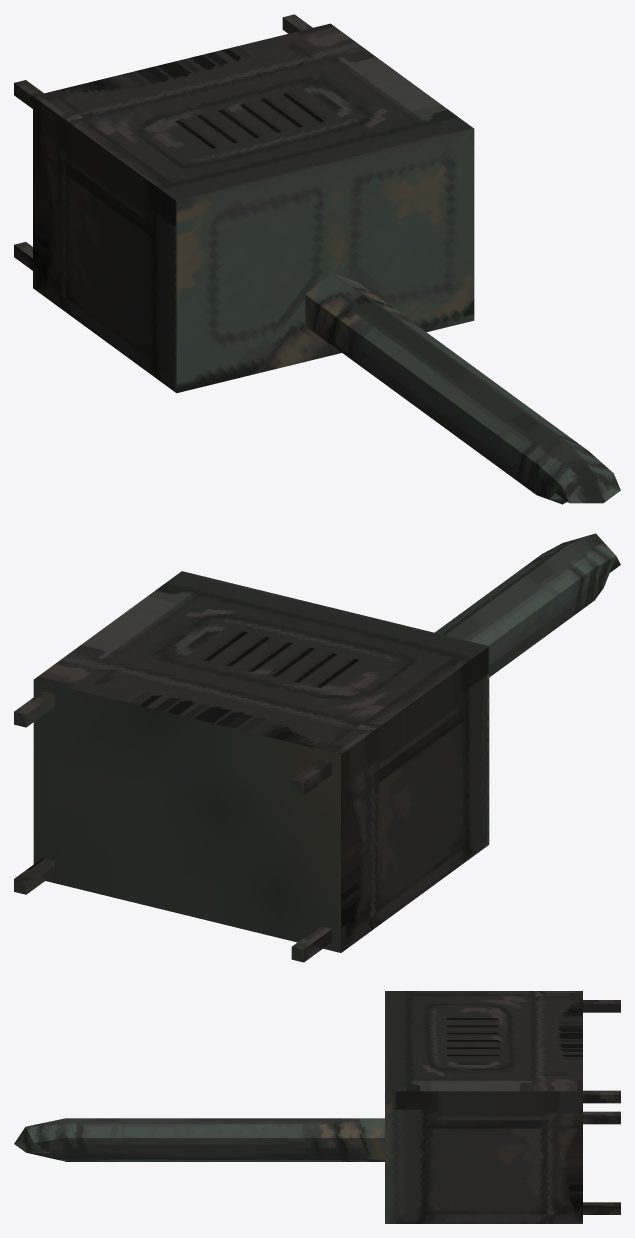
File: pz_g016_antique_oven.obj
3 renders of one model, top to bottom at view 1: azimuth 30°, elevation 25°; view 2: azimuth 150°, elevation 25°; view 3: azimuth 270°, elevation 25°, orthographic. The views are drawn at different scales.
Visible parts, largest first — view 1: cast_stove_body_z+, cast_stove_body_y+, cast_stove_body_x-, six_sided_flue_side0, six_sided_flue_side1, six_sided_flue_side5, round_flue_elbow_0_0, round_flue_elbow_1_0; view 2: cast_stove_body_z-, cast_stove_body_y+, cast_stove_body_x-, six_sided_flue_side0, six_sided_flue_side1, six_sided_flue_side5, round_flue_elbow_0_0; view 3: cast_stove_body_x+, cast_stove_body_y+, six_sided_flue_side4, six_sided_flue_side5, six_sided_flue_side3, round_flue_elbow_0_5, round_flue_elbow_0_4, cast_stove_leg_0_0_x+, cast_stove_leg_1_1_x+, cast_stove_leg_0_1_x+, cast_stove_leg_1_0_x+.
Part boxes in pixels (box(x1,y1,x2,y2)): cast_stove_body_z+: box(176, 128, 474, 392); cast_stove_body_y+: box(33, 23, 473, 201); cast_stove_body_x-: box(33, 96, 176, 392); six_sided_flue_side0: box(305, 272, 562, 463); six_sided_flue_side1: box(305, 294, 536, 494); six_sided_flue_side5: box(332, 272, 587, 450); round_flue_elbow_0_0: box(537, 441, 593, 485); round_flue_elbow_1_0: box(562, 473, 603, 503); cast_stove_body_z-: box(33, 680, 340, 952); cast_stove_body_y+: box(34, 571, 488, 754); cast_stove_body_x-: box(341, 646, 489, 952); six_sided_flue_side0: box(445, 545, 594, 645); six_sided_flue_side1: box(488, 568, 595, 677); six_sided_flue_side5: box(435, 545, 567, 634); round_flue_elbow_0_0: box(569, 533, 615, 566); cast_stove_body_x+: box(385, 1091, 582, 1223); cast_stove_body_y+: box(385, 991, 582, 1091); six_sided_flue_side4: box(65, 1138, 384, 1159); six_sided_flue_side5: box(65, 1118, 384, 1137); six_sided_flue_side3: box(65, 1159, 384, 1161); round_flue_elbow_0_5: box(26, 1118, 65, 1142); round_flue_elbow_0_4: box(34, 1138, 65, 1159); cast_stove_leg_0_0_x+: box(583, 1115, 620, 1124); cast_stove_leg_1_1_x+: box(583, 1094, 620, 1103); cast_stove_leg_0_1_x+: box(583, 1004, 620, 1012); cast_stove_leg_1_0_x+: box(583, 1206, 620, 1214).
Size of the model in its own units: 0.8756 by 0.5399 by 2.24.
Materials: 1 (1 with a texture image).
